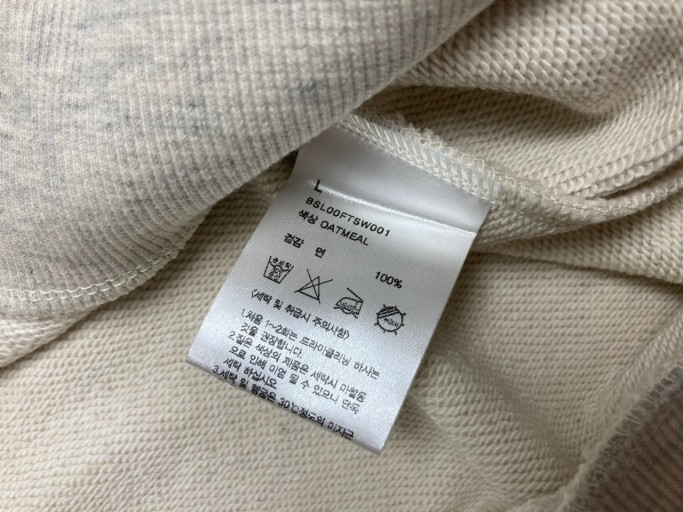KR_flat_dry_in_shade: (373, 299, 407, 337)
KR_hand_wash_30_neutral: (263, 252, 293, 286)
KR_iron_medium_temp_with_cloth: (334, 284, 365, 320)
KR_no_chlorine_bleach: (294, 269, 330, 304)
